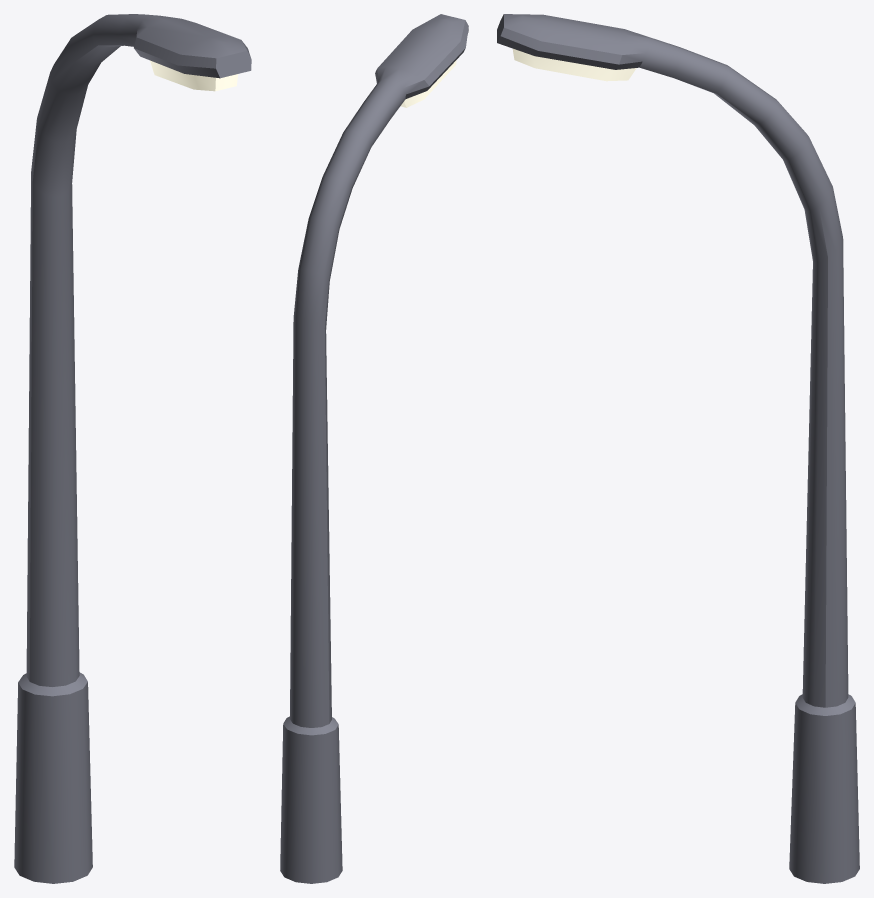
File: street-light.glb
3 views of the same model, side by side, from view 1: azimuth 30°, elevation 25°; view 2: azimuth 150°, elevation 25°; view 3: azimuth 270°, elevation 25° (orthographic). The views are drawn at different scales.
Visible parts, largest first — view 1: StreetLight; view 2: StreetLight; view 3: StreetLight.
Part boxes in pixels (left/top/right/bottom): StreetLight: left=14, top=14, right=251, bottom=883; StreetLight: left=280, top=14, right=468, bottom=883; StreetLight: left=497, top=14, right=859, bottom=883.
Size of the model in its own units: 0.4334 by 5.6 by 2.16.
Materials: 1 (1 with a texture image).
